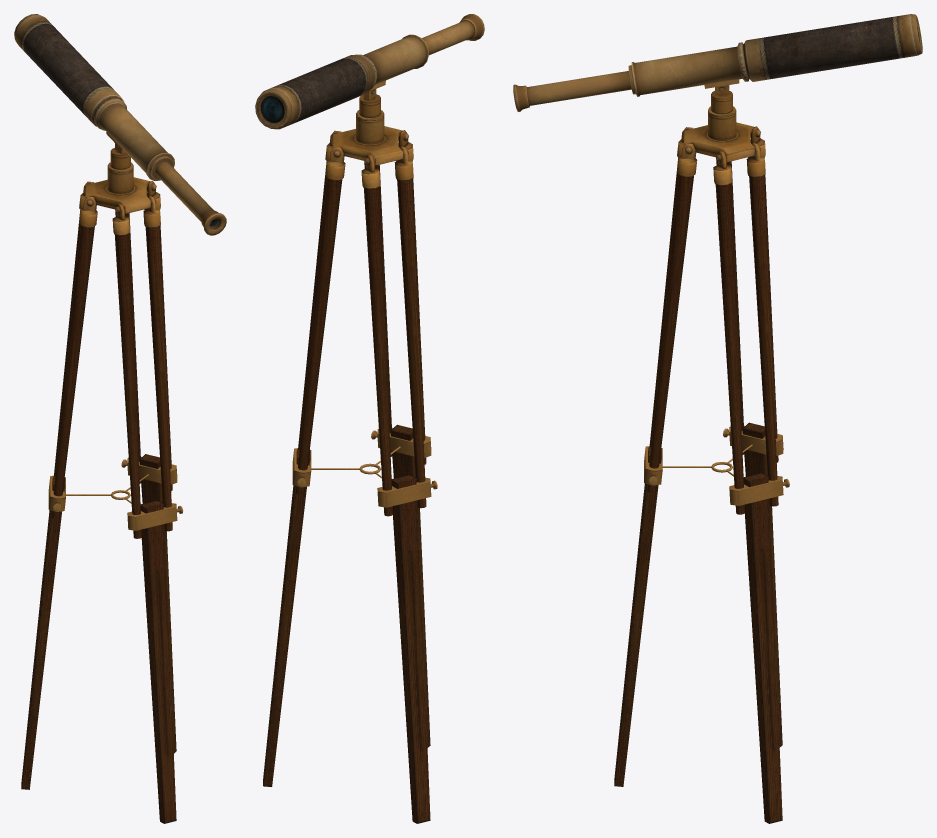
The model's file is spyglass_tripod.fbx.
3 renders of one model, left to right at view 1: azimuth 30°, elevation 25°; view 2: azimuth 150°, elevation 25°; view 3: azimuth 270°, elevation 25°, orthographic. The views are drawn at different scales.
Visible parts, largest first — view 1: spyglass_tripod; view 2: spyglass_tripod; view 3: spyglass_tripod.
Part boxes in pixels (x1=…): spyglass_tripod: x1=14, y1=14, x2=226, y2=823; spyglass_tripod: x1=255, y1=14, x2=484, y2=823; spyglass_tripod: x1=513, y1=14, x2=922, y2=823.
Size of the model in its own units: 40.31 by 176 by 84.92.
2 materials, 2 textured.
